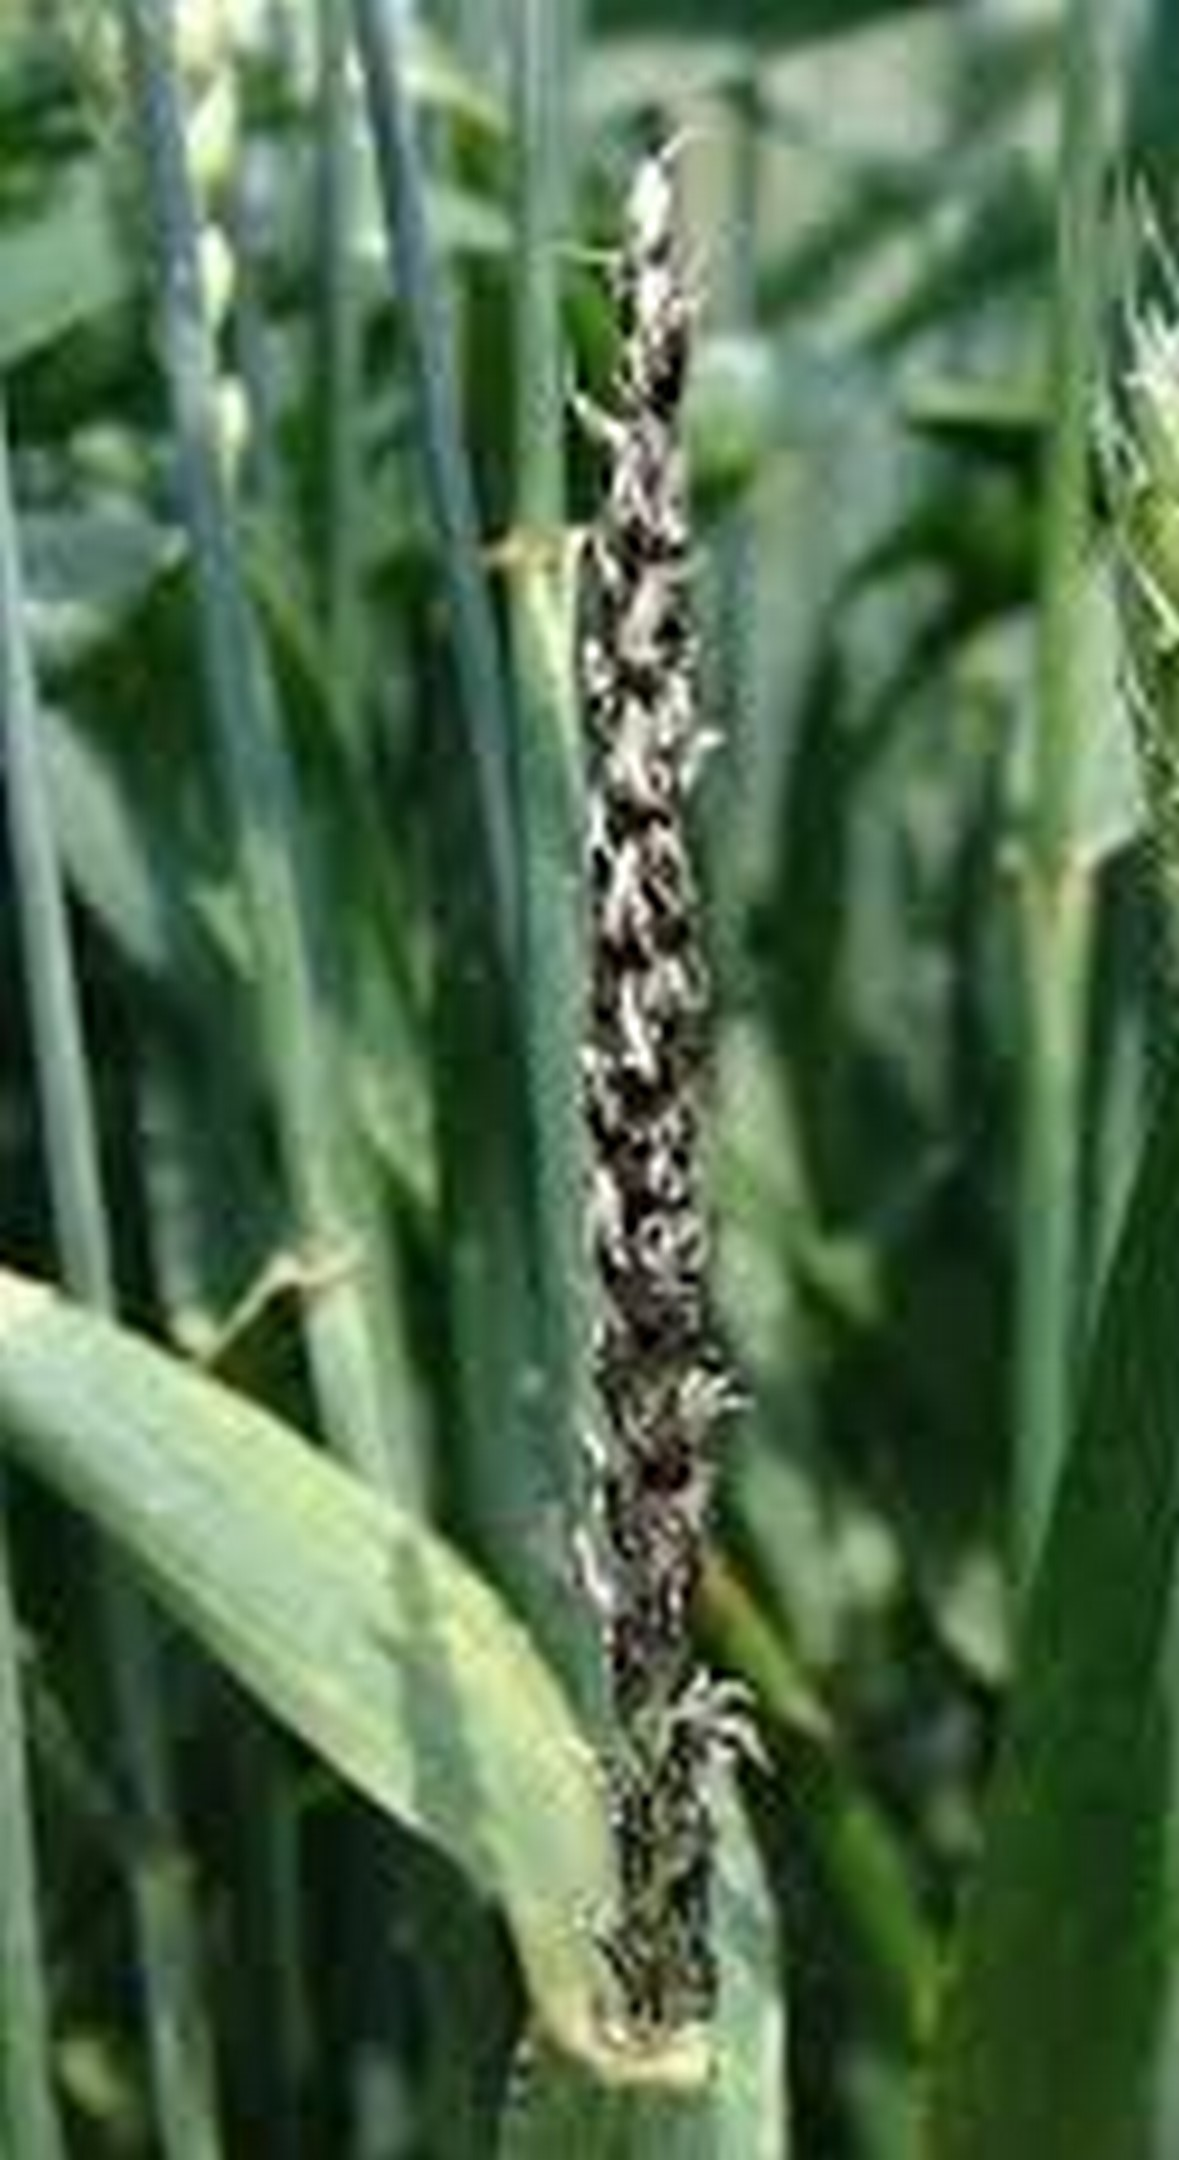Wheat Loose Smut: (484, 160, 790, 1756)
